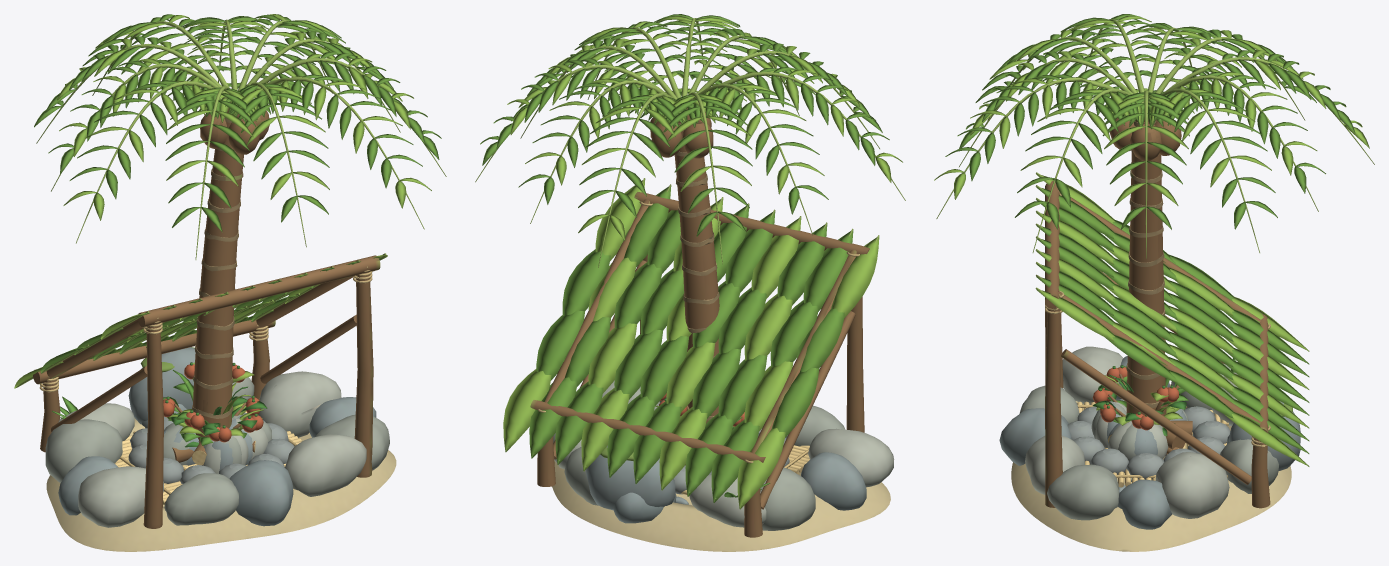
The model's file is survival-props-14.glb.
The picture shows the model from 3 angles, left to right: view 1: azimuth 30°, elevation 25°; view 2: azimuth 150°, elevation 25°; view 3: azimuth 270°, elevation 25°; orthographic projection.
Visible parts, largest first — view 1: crown_leaf, Shelter_bark, r12_Spring_Rocks_rockPale, crown_light, r12_Spring_Bed_sand, r12_Spring_Rocks_rockCool, r12_Spring_Rocks_rockWarm, stem_bark, crown_vein, Fire_stone, Shelter_leaf, stem_scar (+9 smaller); view 2: Shelter_leaf, Shelter_light, crown_leaf, Shelter_bark, crown_light, r12_Spring_Bed_sand, r12_Spring_Rocks_rockCool, crown_vein, stem_bark, r12_Spring_Rocks_rockPale, r12_Spring_Rocks_rockWarm, crown_bark (+1 smaller); view 3: crown_leaf, Shelter_leaf, Shelter_bark, Shelter_light, crown_light, r12_Spring_Bed_sand, r12_Spring_Rocks_rockPale, crown_vein, r12_Spring_Rocks_rockWarm, stem_bark, r12_Spring_Rocks_rockCool, Fire_stone (+5 smaller).
Part boxes in pixels (x1,y1,x2,y2): crown_leaf: (34, 14, 441, 232); Shelter_bark: (33, 255, 380, 528); r12_Spring_Rocks_rockPale: (58, 371, 366, 527); crown_light: (57, 14, 431, 220); r12_Spring_Bed_sand: (46, 418, 396, 551); r12_Spring_Rocks_rockCool: (58, 347, 376, 526); r12_Spring_Rocks_rockWarm: (45, 377, 389, 525); stem_bark: (193, 102, 243, 440); crown_vein: (36, 19, 446, 259); Fire_stone: (128, 412, 294, 483); Shelter_leaf: (41, 261, 360, 372); stem_scar: (192, 117, 243, 442); Shelter_leaf: (529, 186, 853, 502); Shelter_light: (503, 179, 879, 509); crown_leaf: (480, 14, 889, 236); Shelter_bark: (530, 192, 869, 537); crown_light: (507, 16, 902, 240); r12_Spring_Bed_sand: (552, 460, 890, 551); r12_Spring_Rocks_rockCool: (586, 445, 866, 523); crown_vein: (475, 18, 905, 267); stem_bark: (674, 108, 719, 423); r12_Spring_Rocks_rockPale: (553, 397, 894, 527); r12_Spring_Rocks_rockWarm: (564, 380, 845, 530); crown_bark: (650, 112, 713, 158); crown_leaf: (945, 14, 1355, 229); Shelter_leaf: (1036, 187, 1309, 453); Shelter_bark: (1045, 181, 1270, 508); Shelter_light: (1036, 174, 1309, 466); crown_light: (934, 15, 1369, 205); r12_Spring_Bed_sand: (1011, 384, 1291, 551); r12_Spring_Rocks_rockPale: (1025, 346, 1237, 518); crown_vein: (936, 19, 1374, 258); r12_Spring_Rocks_rockWarm: (1019, 363, 1278, 520); stem_bark: (1126, 118, 1166, 415); r12_Spring_Rocks_rockCool: (999, 356, 1300, 529); Fire_stone: (1067, 399, 1230, 480).
Size of the model in its own units: 3.58 by 4.36 by 3.84.
Materials: 58 (58 with a texture image).
